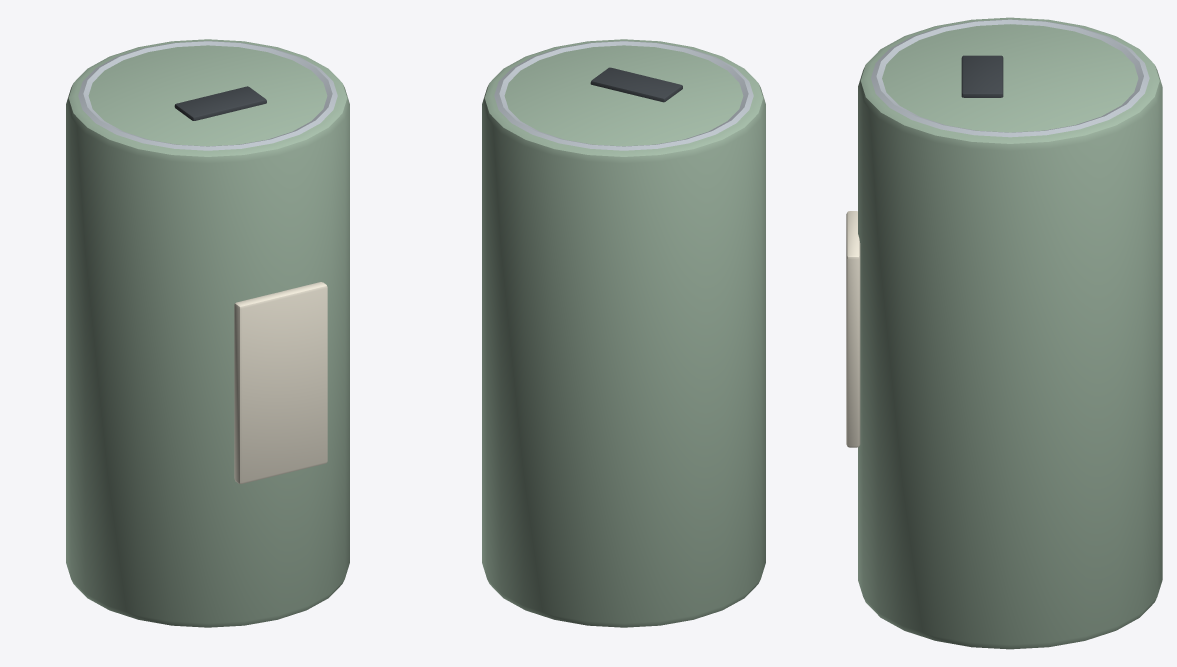
File: checkout_product_beverage_can.glb
The picture shows the model from 3 angles, left to right: view 1: azimuth 30°, elevation 25°; view 2: azimuth 150°, elevation 25°; view 3: azimuth 270°, elevation 25°; orthographic projection. The views are drawn at different scales.
Visible parts, largest first — view 1: BeverageCanBody, BeverageCanLabel, BeverageCanTopRim, BeverageCanPullTab; view 2: BeverageCanBody, BeverageCanTopRim, BeverageCanPullTab; view 3: BeverageCanBody, BeverageCanTopRim, BeverageCanLabel, BeverageCanPullTab.
Part boxes in pixels (x1=…): BeverageCanBody: x1=66, y1=39, x2=349, y2=627; BeverageCanLabel: x1=234, y1=282, x2=327, y2=483; BeverageCanTopRim: x1=78, y1=41, x2=337, y2=150; BeverageCanPullTab: x1=174, y1=86, x2=266, y2=120; BeverageCanBody: x1=482, y1=39, x2=765, y2=627; BeverageCanTopRim: x1=494, y1=41, x2=753, y2=150; BeverageCanPullTab: x1=590, y1=67, x2=682, y2=102; BeverageCanBody: x1=858, y1=17, x2=1162, y2=649; BeverageCanTopRim: x1=871, y1=19, x2=1149, y2=137; BeverageCanLabel: x1=846, y1=211, x2=860, y2=447; BeverageCanPullTab: x1=961, y1=55, x2=1003, y2=97.
Bounding box in the file's own units: 0.066 × 0.1235 × 0.0685.
